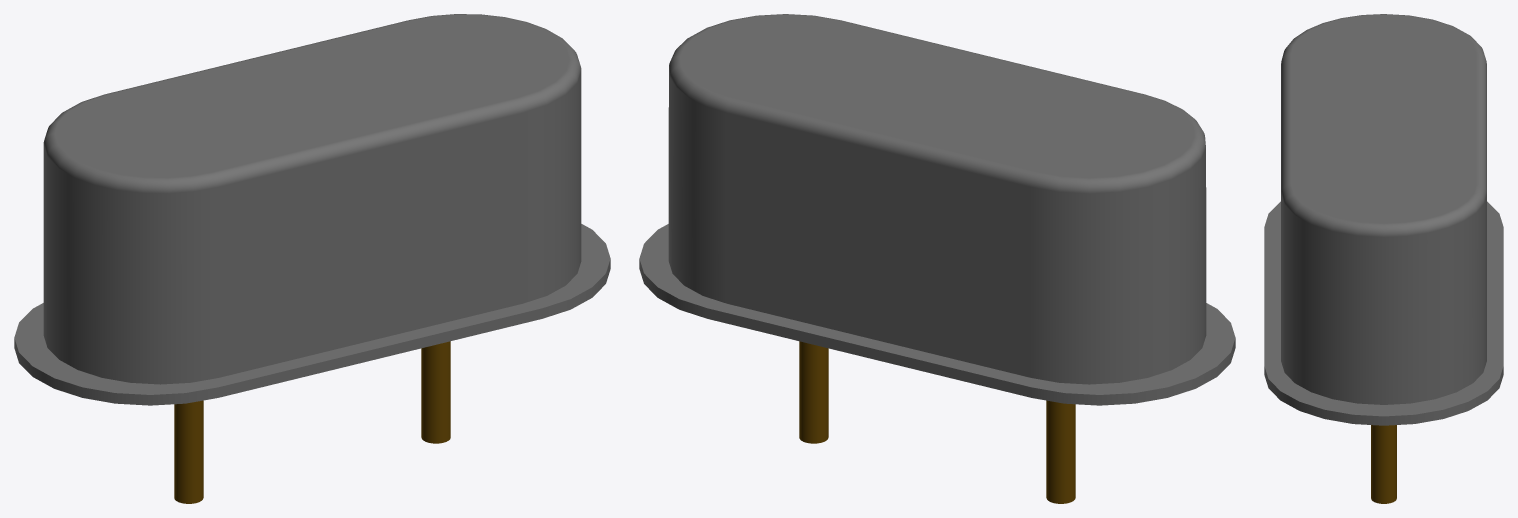
The model's file is Crystal_HC49-4H_Vertical.glb.
3 views of the same model, side by side, from view 1: azimuth 30°, elevation 25°; view 2: azimuth 150°, elevation 25°; view 3: azimuth 270°, elevation 25° (orthographic). The views are drawn at different scales.
Parts seen in each view (by area): view 1: =>[0:1:1:3]; view 2: =>[0:1:1:3]; view 3: =>[0:1:1:3].
Boxes of the visible parts, x1=… form: =>[0:1:1:3]: x1=14, y1=14, x2=610, y2=503; =>[0:1:1:3]: x1=639, y1=14, x2=1235, y2=503; =>[0:1:1:3]: x1=1264, y1=14, x2=1503, y2=503.
Bounding box in the file's own units: 0.0111 × 0.007 × 0.00465.
